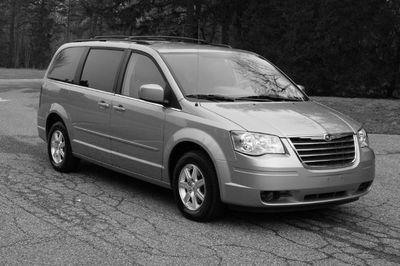car: (36, 26, 377, 229)
